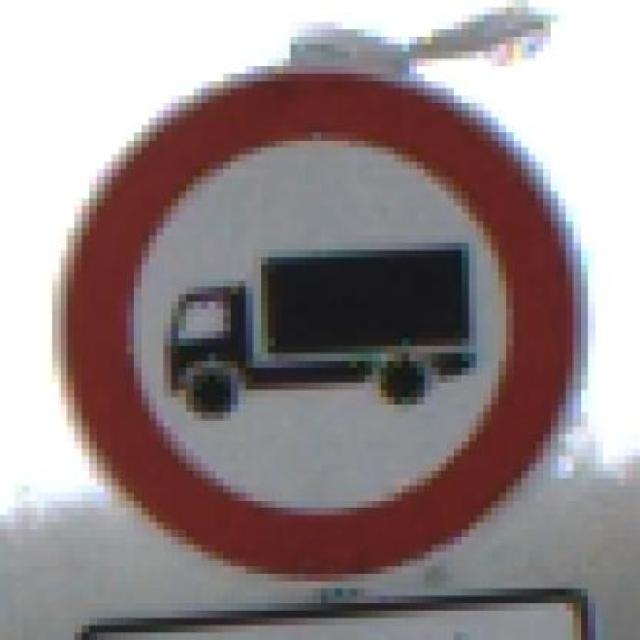Truck traffic is prohibited: (37, 59, 603, 596)
